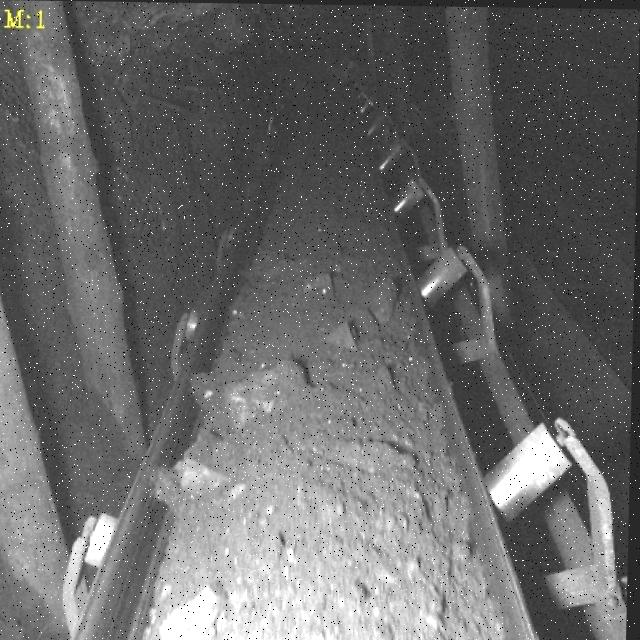large_sized_coal: (228, 352, 312, 432), (174, 455, 254, 511), (159, 584, 232, 640), (363, 271, 403, 321), (325, 319, 363, 355)
